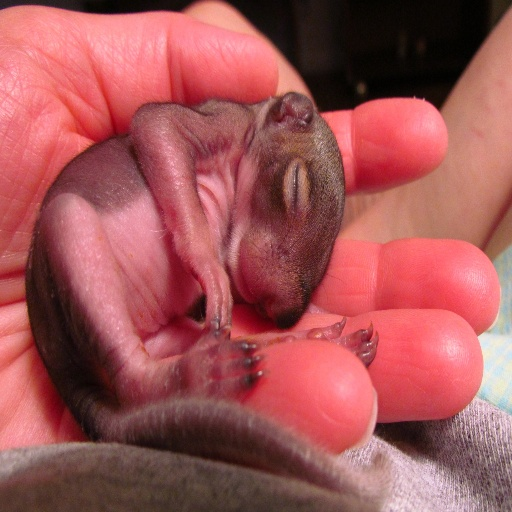hand: (5, 1, 510, 508)
